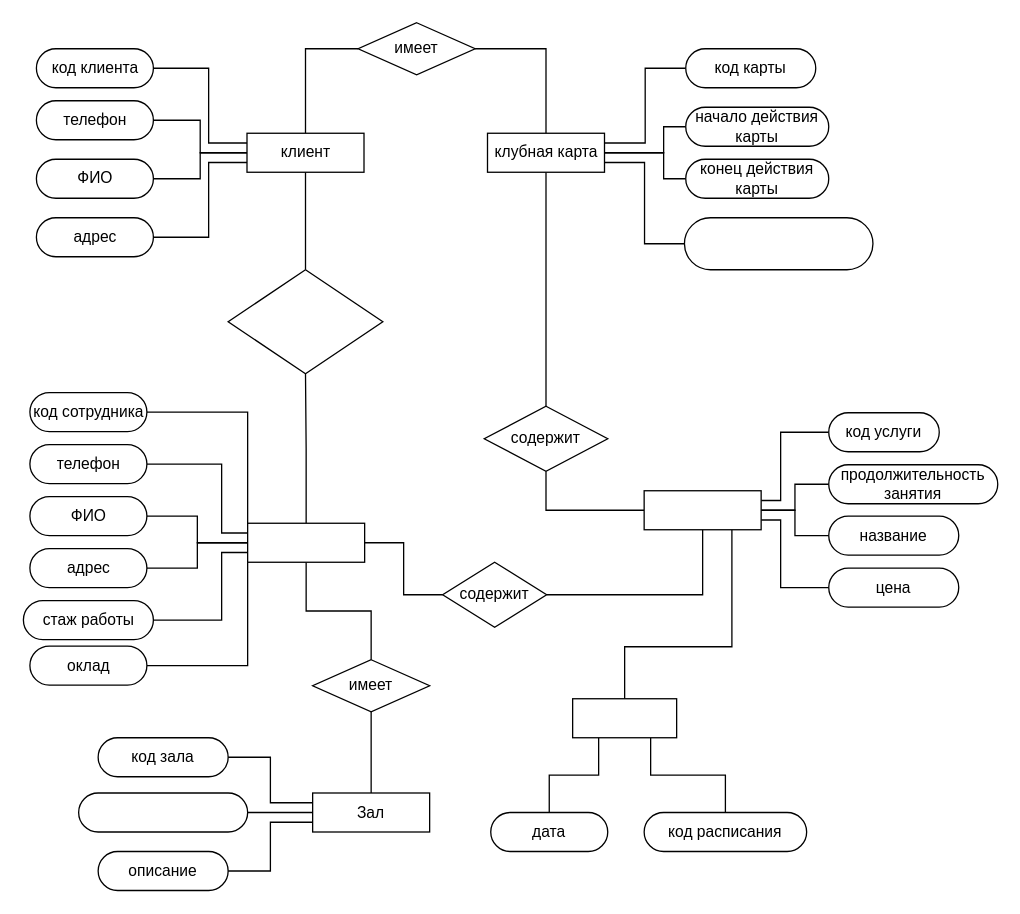
This 1020x914 diagram has some shape labels left out. Each missing label, with the centre of its shape:
наименование: pixel 162 812
общая стоимость подключенных услуг: pixel 778 243
предоставляет услуги: pixel 305 321
расписание: pixel 624 717
сотрудник: pixel 305 542
услуги: pixel 702 509
